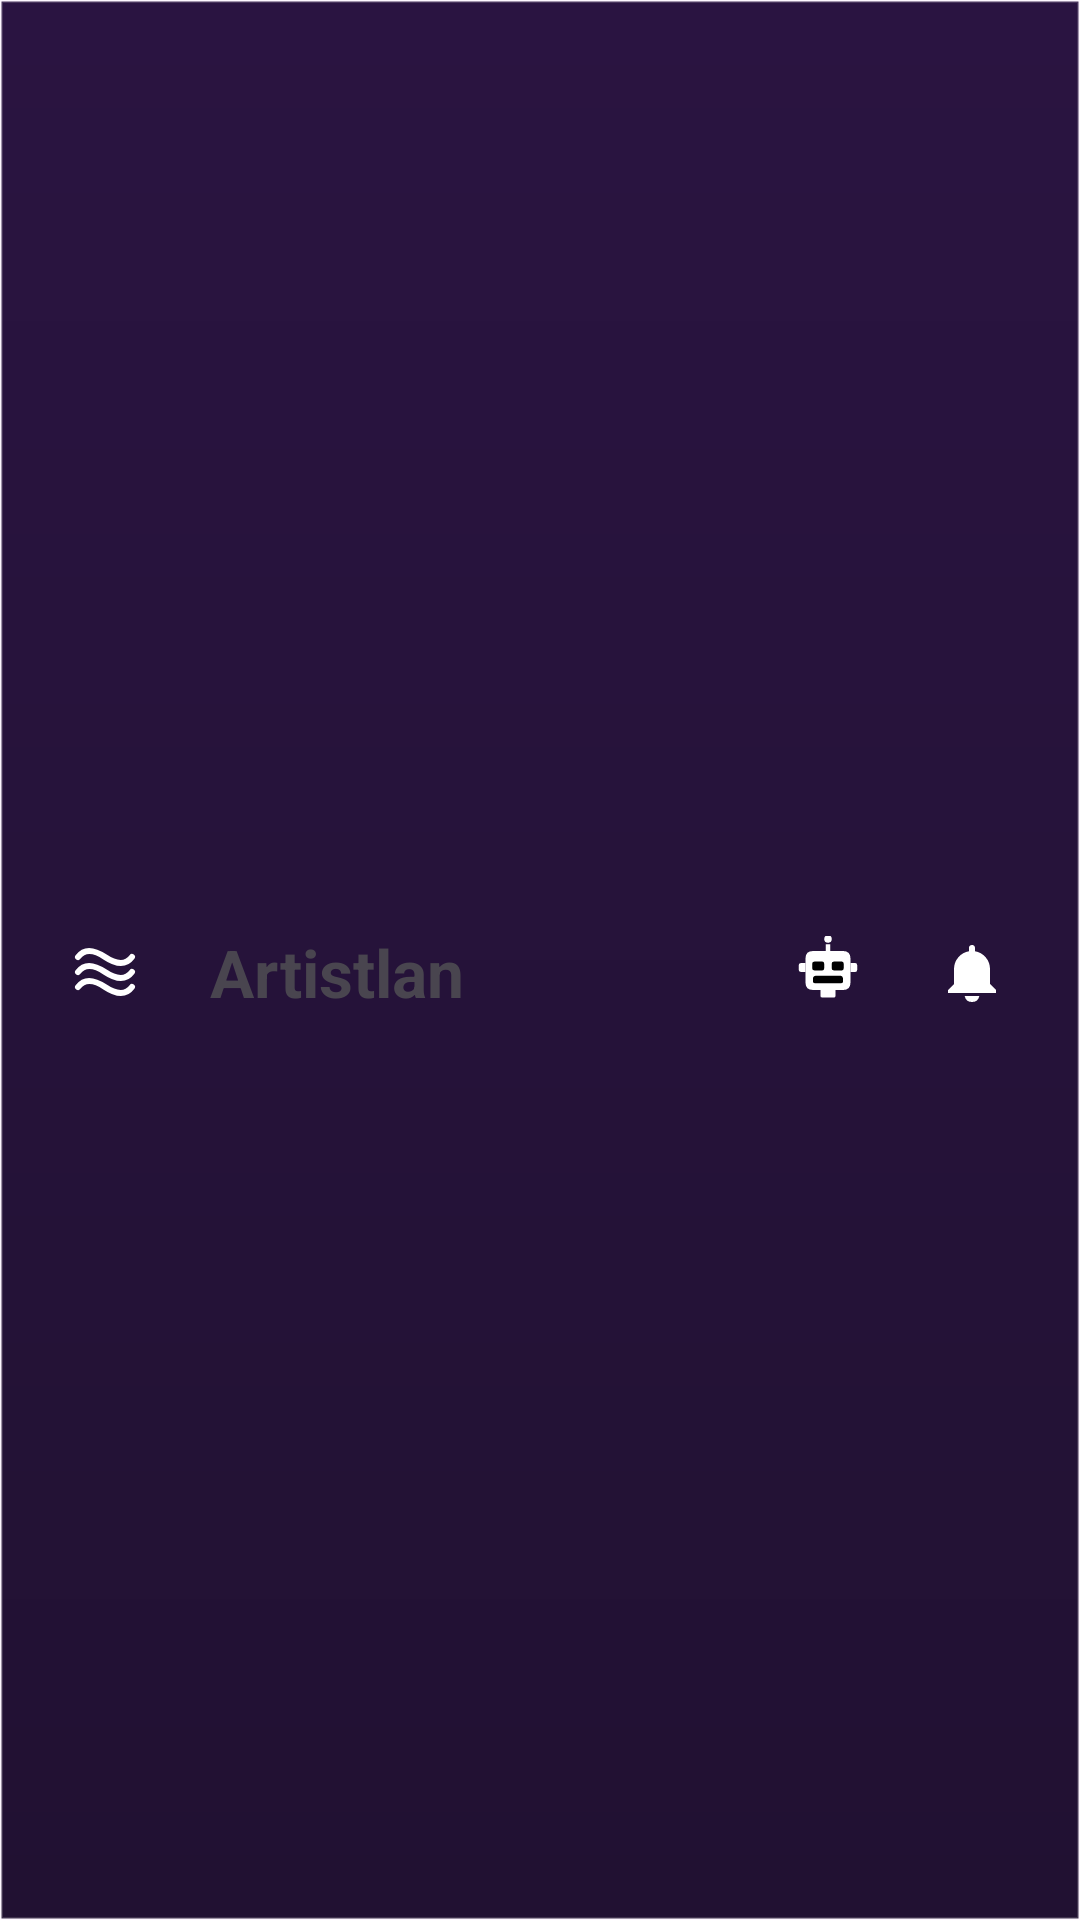

Point at icon controls on the screen. Image size 1080*1920, points as [x,y].
Chatbot de asistencia: [828,967]
hamburguer: [105,972]
